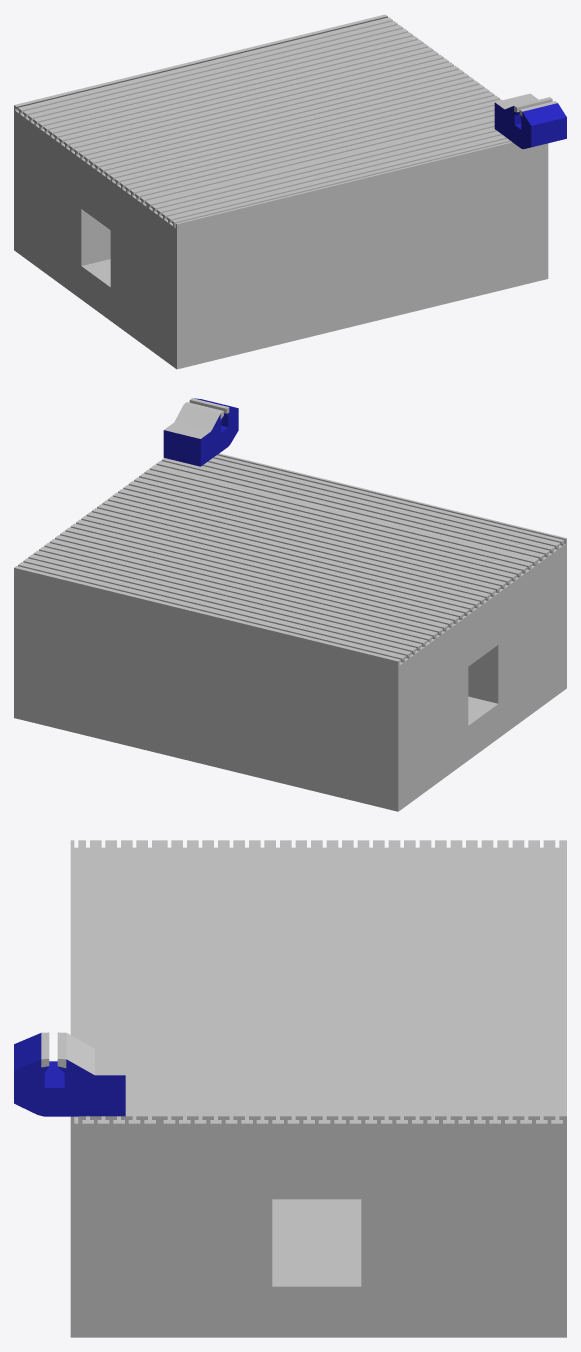
Rendered from SchweissTisch.glb.
3 renders of one model, top to bottom at view 1: azimuth 30°, elevation 25°; view 2: azimuth 150°, elevation 25°; view 3: azimuth 270°, elevation 25°, orthographic. The views are drawn at different scales.
Visible parts, largest first — view 1: Schweisstisch; view 2: Schweisstisch; view 3: Schweisstisch.
Part boxes in pixels (box(x1,y1,x2,y2)): Schweisstisch: box(14, 14, 566, 369); Schweisstisch: box(14, 398, 566, 811); Schweisstisch: box(14, 840, 566, 1337).
Bounding box in the file's own units: 10.71 × 5.04 × 9.06.
